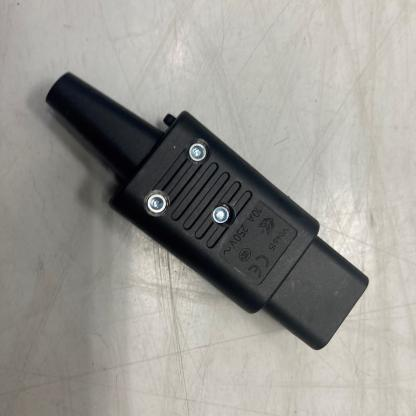SP0000006: (14, 33, 402, 384)
